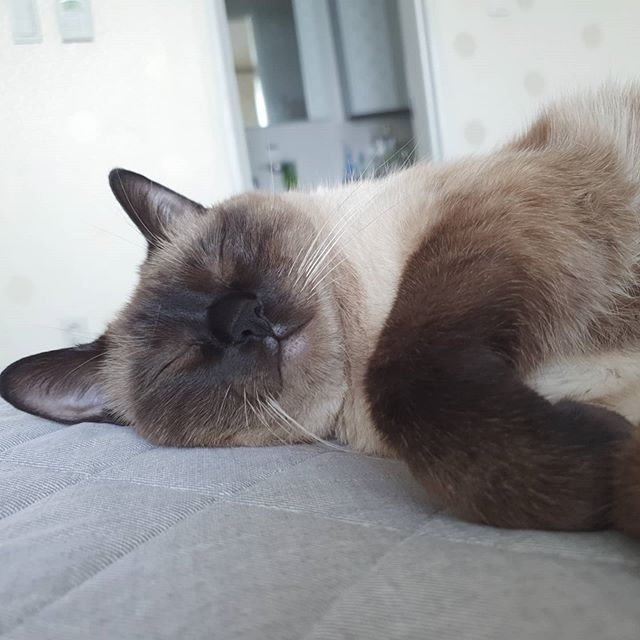cat: (4, 162, 347, 447)
